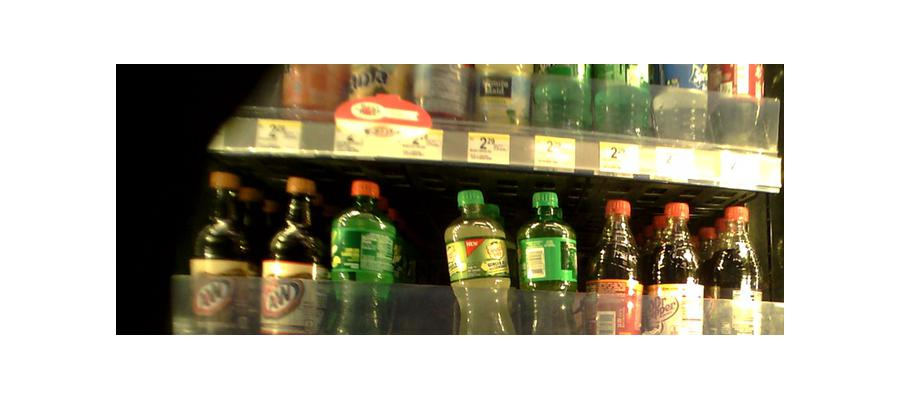bottle: (327, 178, 394, 336), (187, 169, 252, 331), (515, 192, 582, 334), (261, 177, 321, 334), (450, 191, 514, 336), (587, 196, 643, 337), (647, 201, 703, 337), (710, 201, 764, 338), (649, 57, 714, 144), (709, 66, 769, 146), (592, 58, 649, 139), (472, 54, 530, 130), (533, 59, 587, 134)
